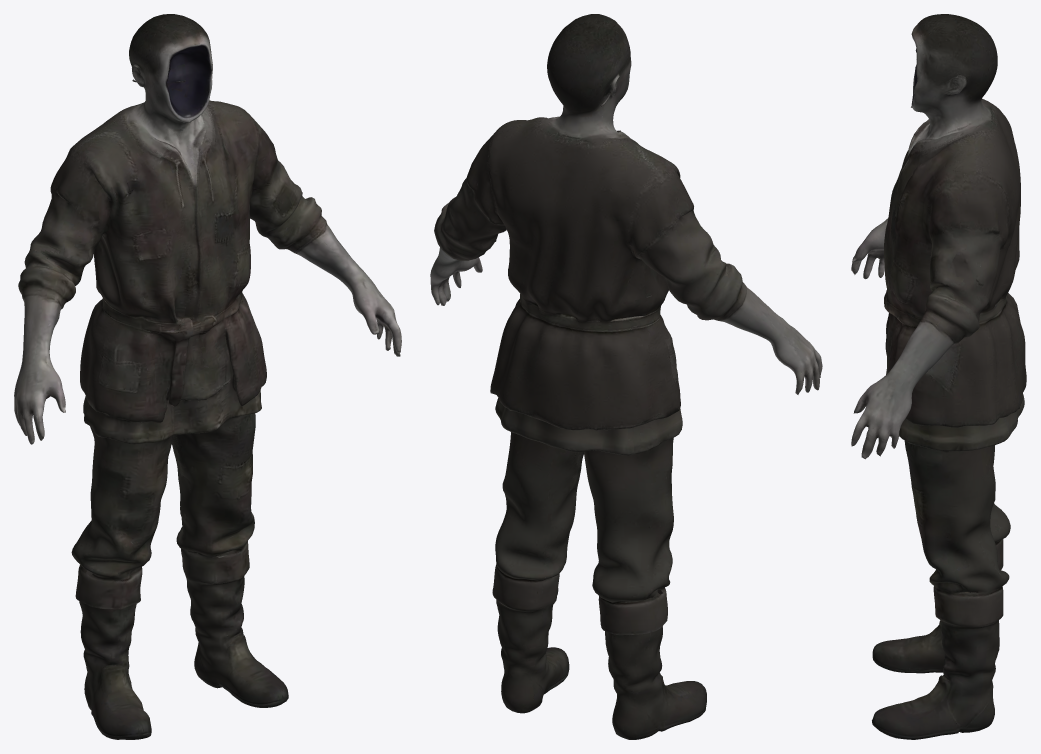
The model's file is HOLLOW-T1-UNDONE-V7.glb.
3 views of the same model, side by side, from view 1: azimuth 30°, elevation 25°; view 2: azimuth 150°, elevation 25°; view 3: azimuth 270°, elevation 25° (orthographic).
Visible parts, largest first — view 1: mesh_node; view 2: mesh_node; view 3: mesh_node.
Part boxes in pixels (x1,y1,x2,y2): mesh_node: (14,14,401,739); mesh_node: (430,14,822,739); mesh_node: (851,14,1026,739).
Size of the model in its own units: 1.09 by 1.9 by 0.4428.
1 material, 1 textured.
